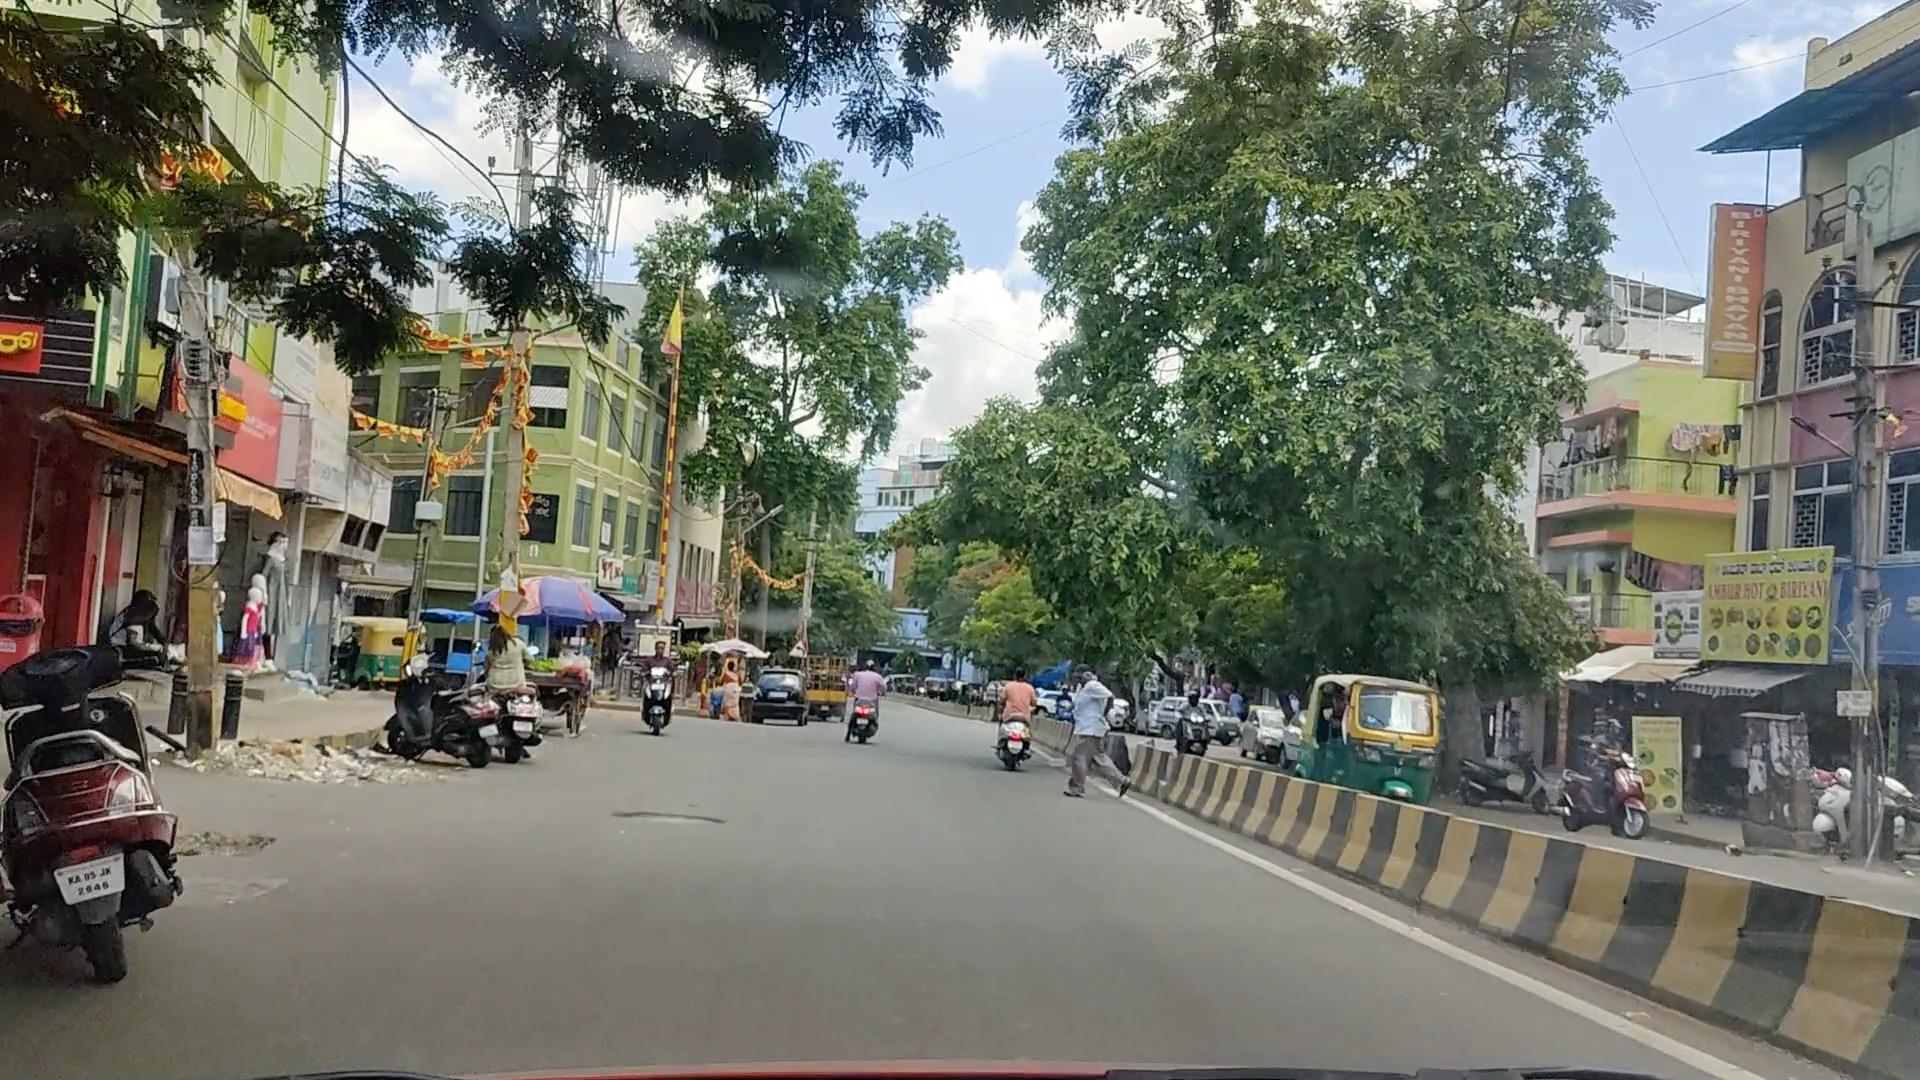LMV: (28, 630, 173, 959)
